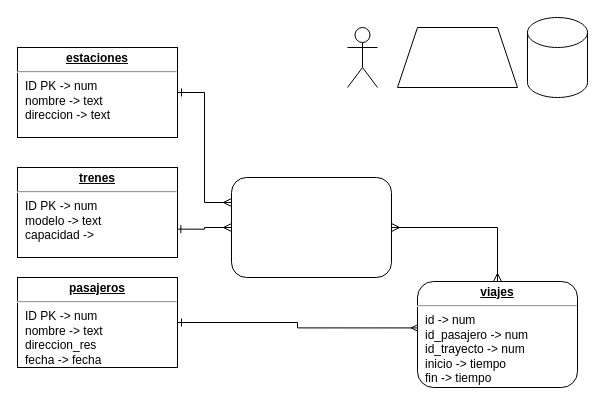
The diagram is 605 pixels wide and 405 high, and some of its shapes have lost their labels. Each missing label, with the centre of its shape:
Actor: point (362, 57)
trayectos id -> num nombre -> num id_tren -> num id_estacion -> num: point (311, 227)
